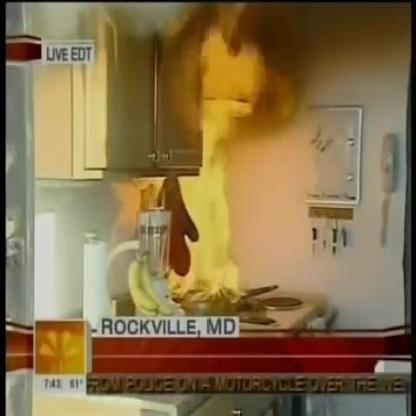fire: (167, 26, 263, 303)
